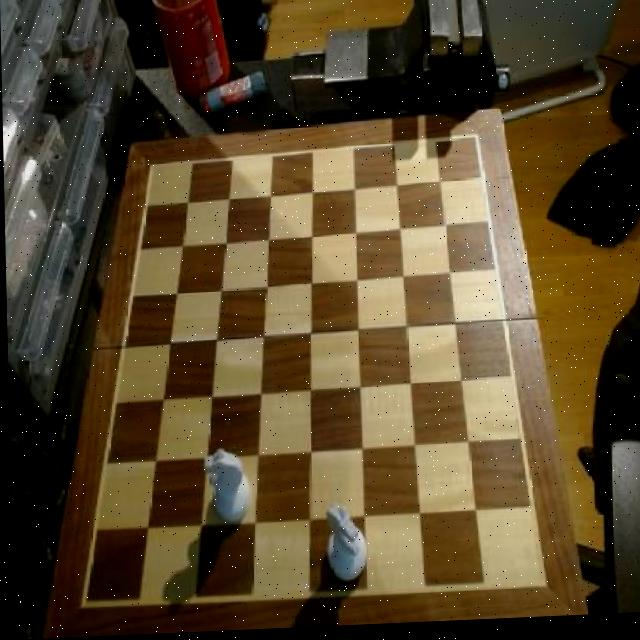white-king: (202, 449, 251, 530), (320, 503, 367, 586)
